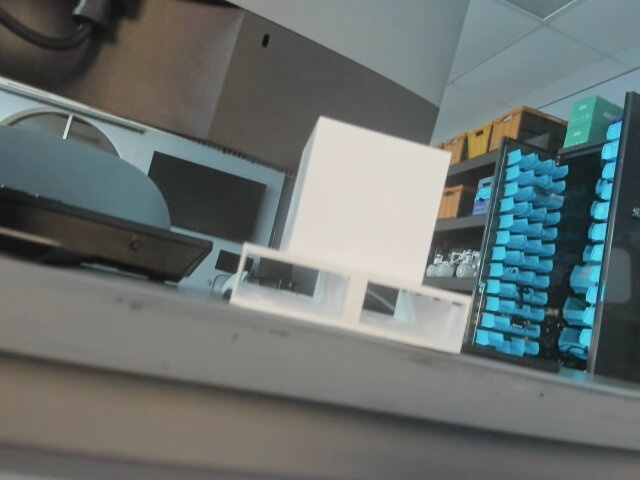white pallet: (219, 108, 475, 366)
